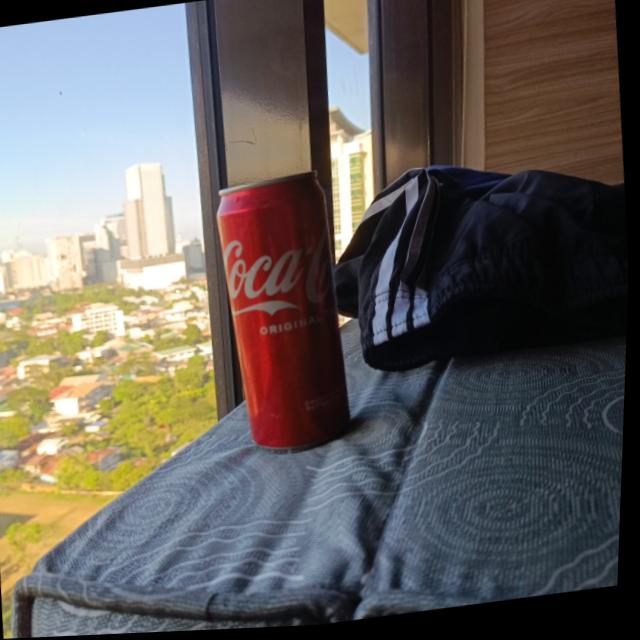coke: (209, 173, 361, 460)
